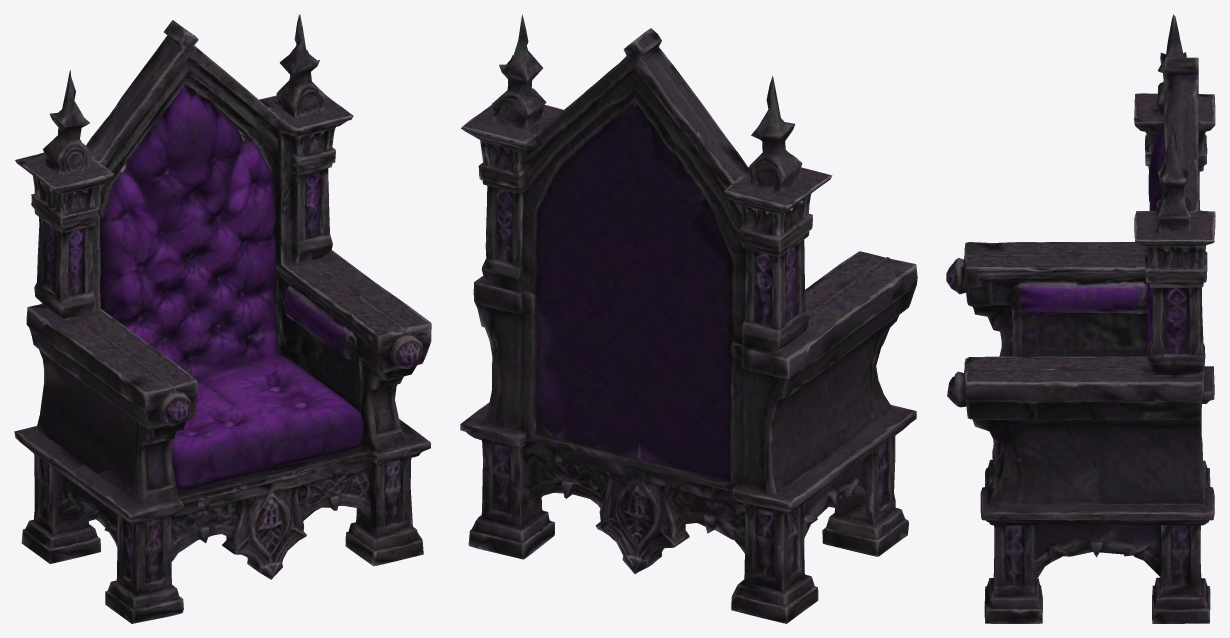
Rendered from amethystThrone.glb.
3 views of the same model, side by side, from view 1: azimuth 30°, elevation 25°; view 2: azimuth 150°, elevation 25°; view 3: azimuth 270°, elevation 25° (orthographic). The views are drawn at different scales.
Size of the model in its own units: 1.22 by 1.9 by 0.9354.
Materials: 1 (1 with a texture image).
